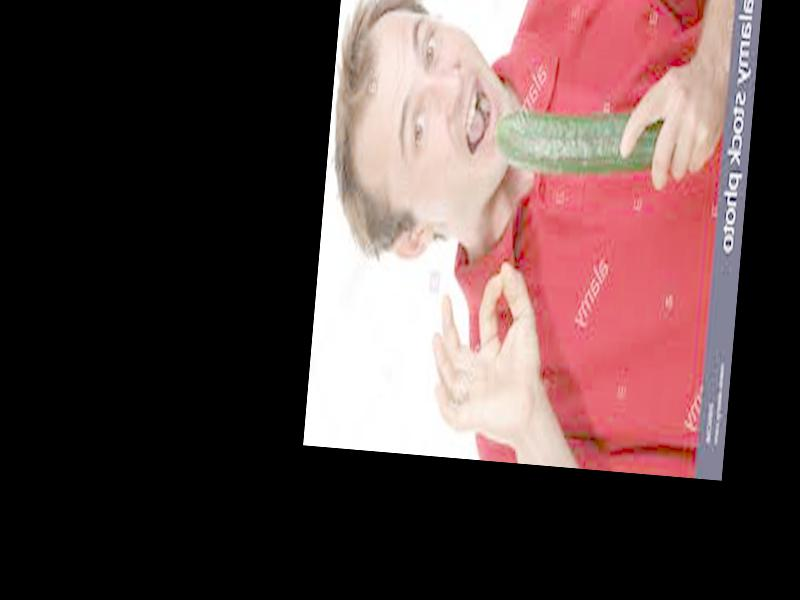Cucumber: (494, 109, 660, 173)
